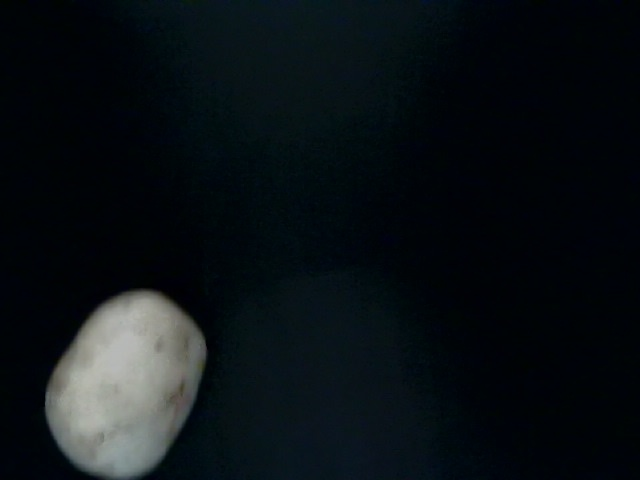QTLJ: (30, 383, 211, 480)
